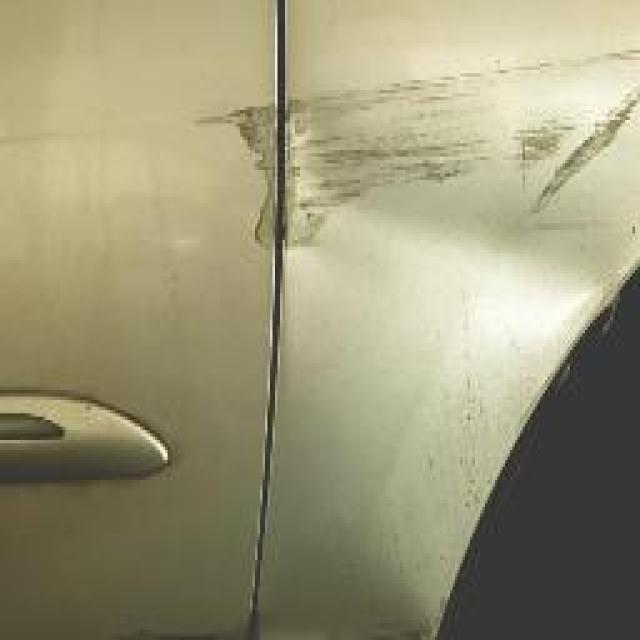Door: (175, 77, 282, 283)
Fender: (282, 50, 640, 267)
